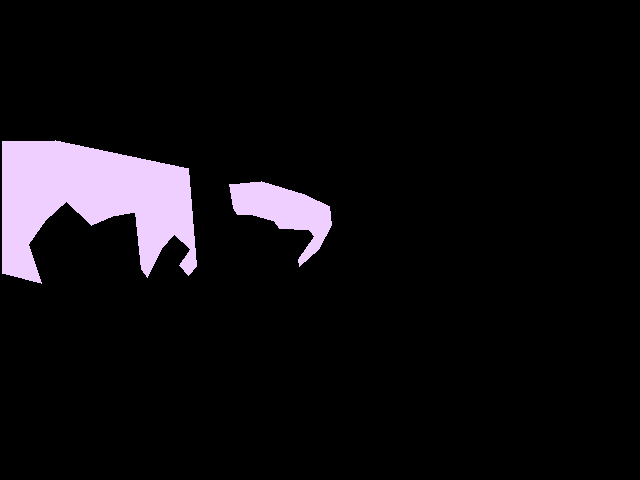Train: (2, 140, 332, 284)
